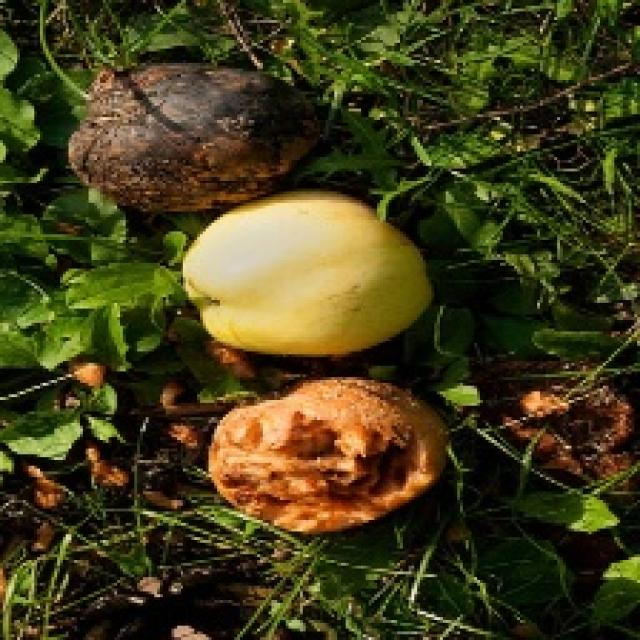50-_ripeness: (183, 205, 437, 354)
rotten_apple: (70, 65, 312, 204), (214, 380, 444, 524)
